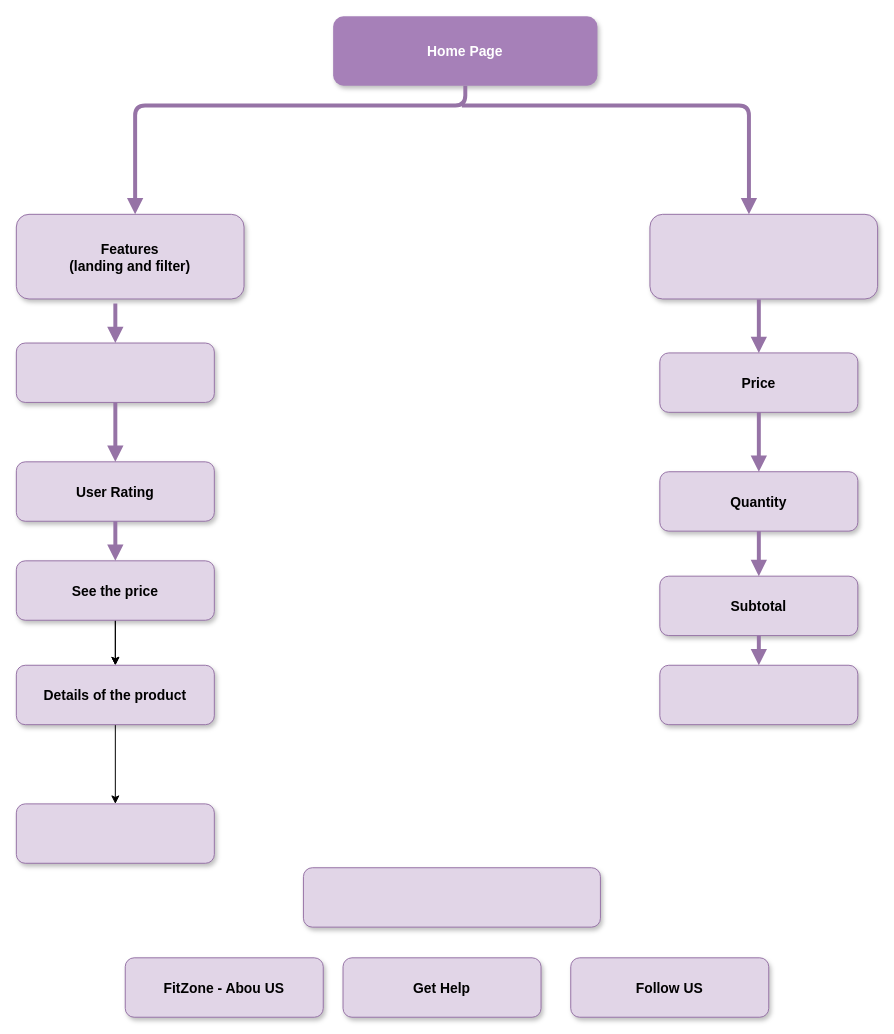
Image size: 894x1034. Some labels were removed from this diagram. The centre of each missing label's shape, as x and y in pixels:
Cart Summary: the point at 759,696
Footer: the point at 452,898
Image Display: the point at 115,373
Reservation: the point at 764,257
View image and video: the point at 115,834
